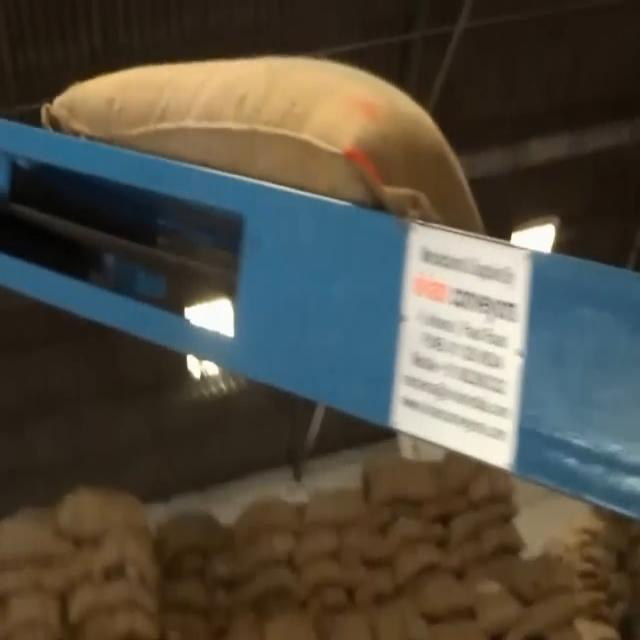gunny_bag: (50, 55, 487, 234)
